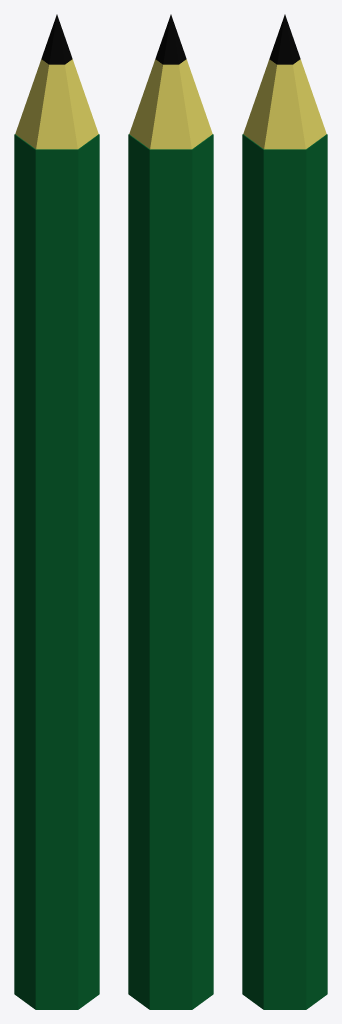
File: pen.fbx
3 views of the same model, side by side, from view 1: azimuth 90°, elevation 25°; view 2: azimuth 150°, elevation 25°; view 3: azimuth 270°, elevation 25° (orthographic).
Parts seen in each view (by area): view 1: Cylinder, Cone; view 2: Cylinder, Cone; view 3: Cylinder, Cone.
Boxes of the visible parts, x1,y1,x2,y2 form: Cylinder: (14,134,99,1009); Cone: (15,14,98,149); Cylinder: (128,134,213,1009); Cone: (129,14,212,149); Cylinder: (242,134,327,1009); Cone: (243,14,326,149).
Bounding box in the file's own units: 0.1256 × 1.84 × 0.145.
